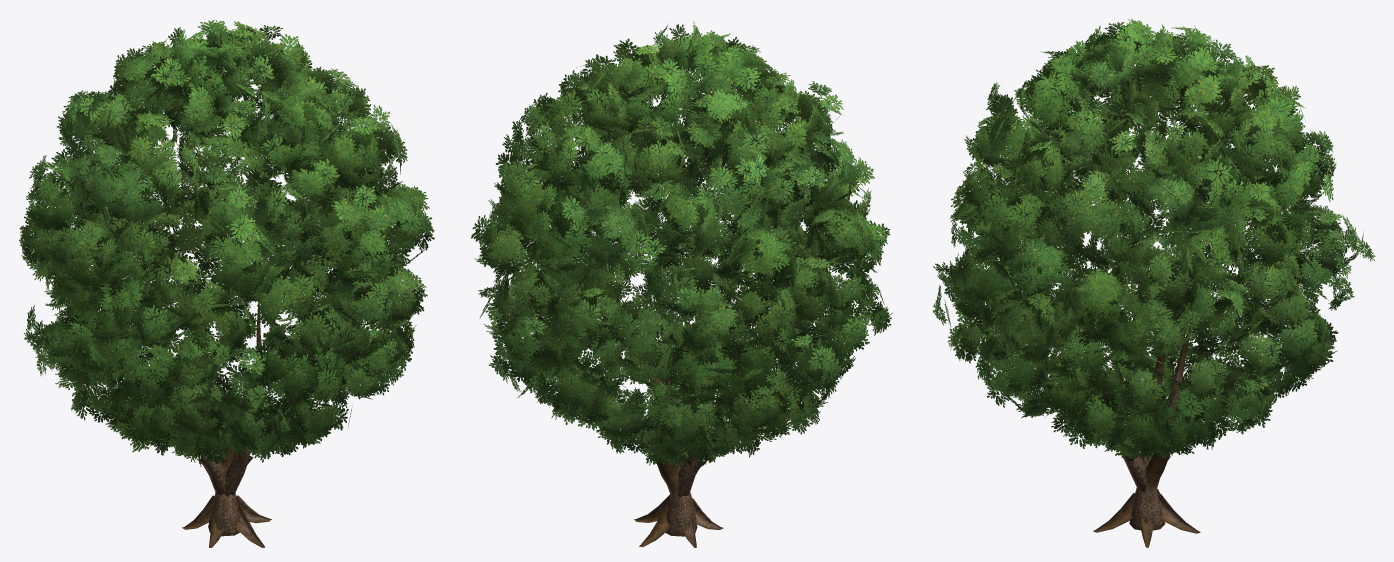
Rendered from mm6_deco_tree02.glb.
3 views of the same model, side by side, from view 1: azimuth 30°, elevation 25°; view 2: azimuth 150°, elevation 25°; view 3: azimuth 270°, elevation 25° (orthographic).
Parts seen in each view (by area): view 1: Tree; view 2: Tree; view 3: Tree.
Boxes of the visible parts, <box> form: Tree: <box>19,20,434,547</box>; Tree: <box>471,21,892,547</box>; Tree: <box>933,18,1375,547</box>.
Bounding box in the file's own units: 6.5 × 8.33 × 6.78.
Materials: 2 (2 with a texture image).
